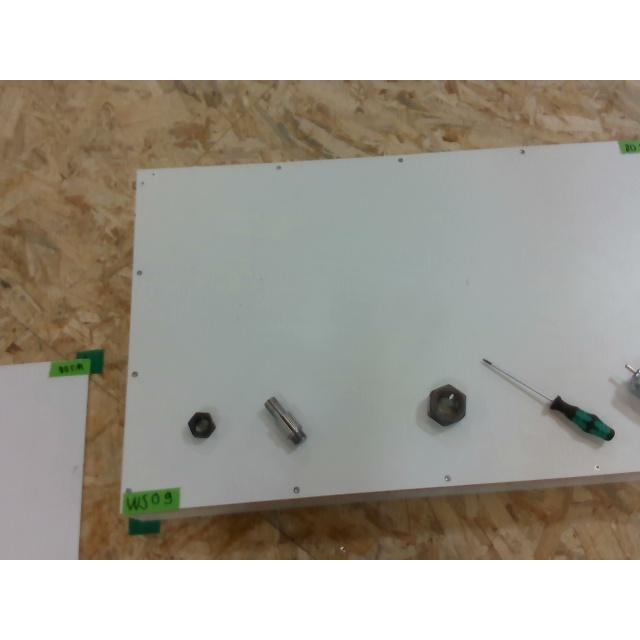Axis2: (264, 396, 304, 444)
M20: (187, 411, 215, 439)
M30: (428, 384, 464, 424)
Screwdriver: (482, 358, 614, 438)
